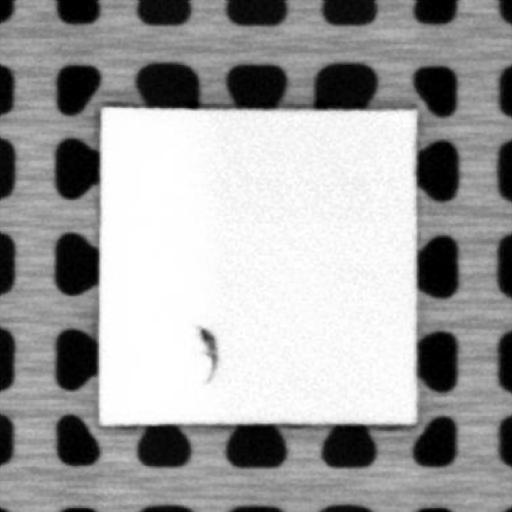DIE_INK: (192, 323, 217, 385)
